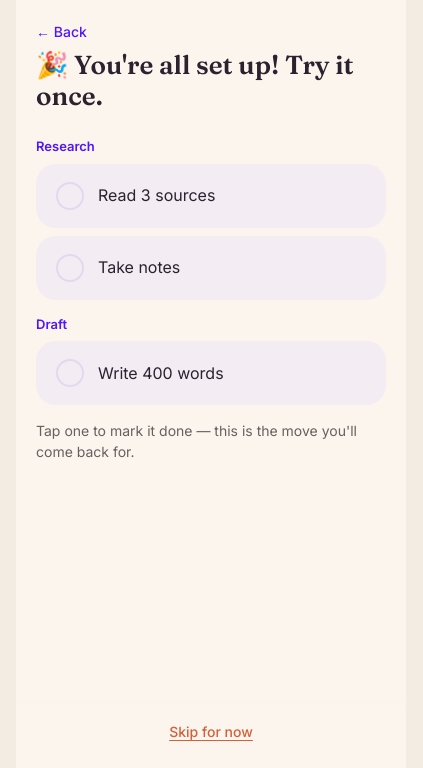
continue button appears 1.5s after completing (default cadence copy)
The width and height of the screenshot is (423, 768).
Click the button with aria-label "mark done: write 400 words" at (140, 373), box [56,359,224,387]
Wait 1600 ms
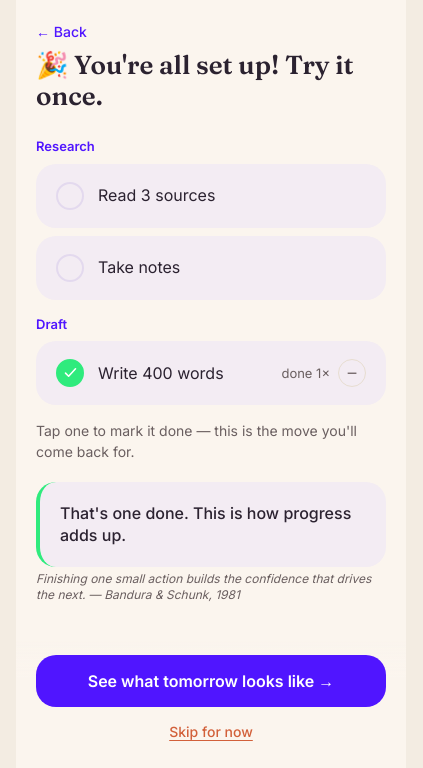
Check: the button "See what tomorrow looks like →" is shown, box [36,655,386,707]
